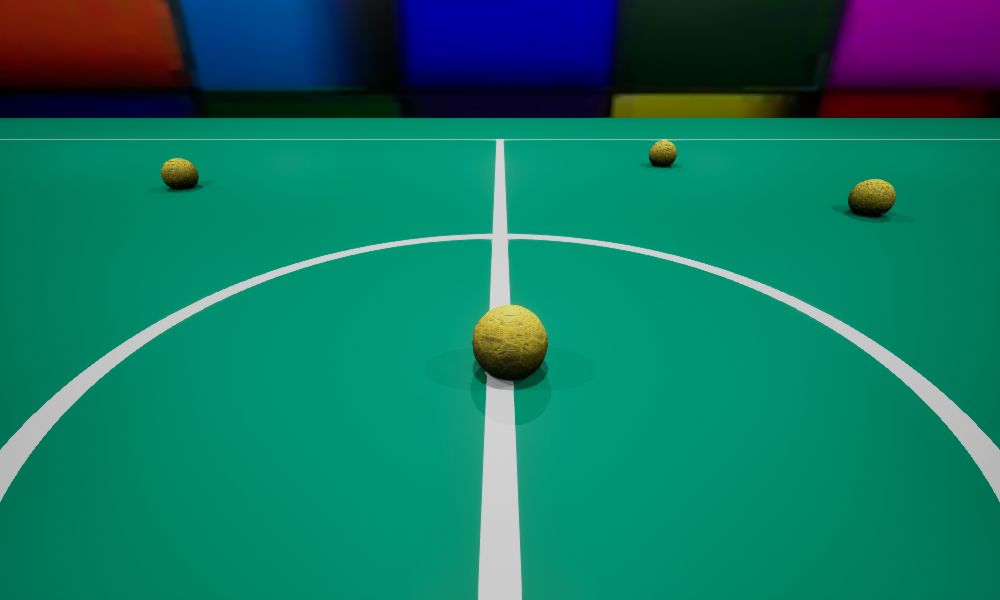b: (472, 305, 547, 379), (848, 179, 895, 216), (161, 158, 198, 189), (649, 140, 676, 166)
